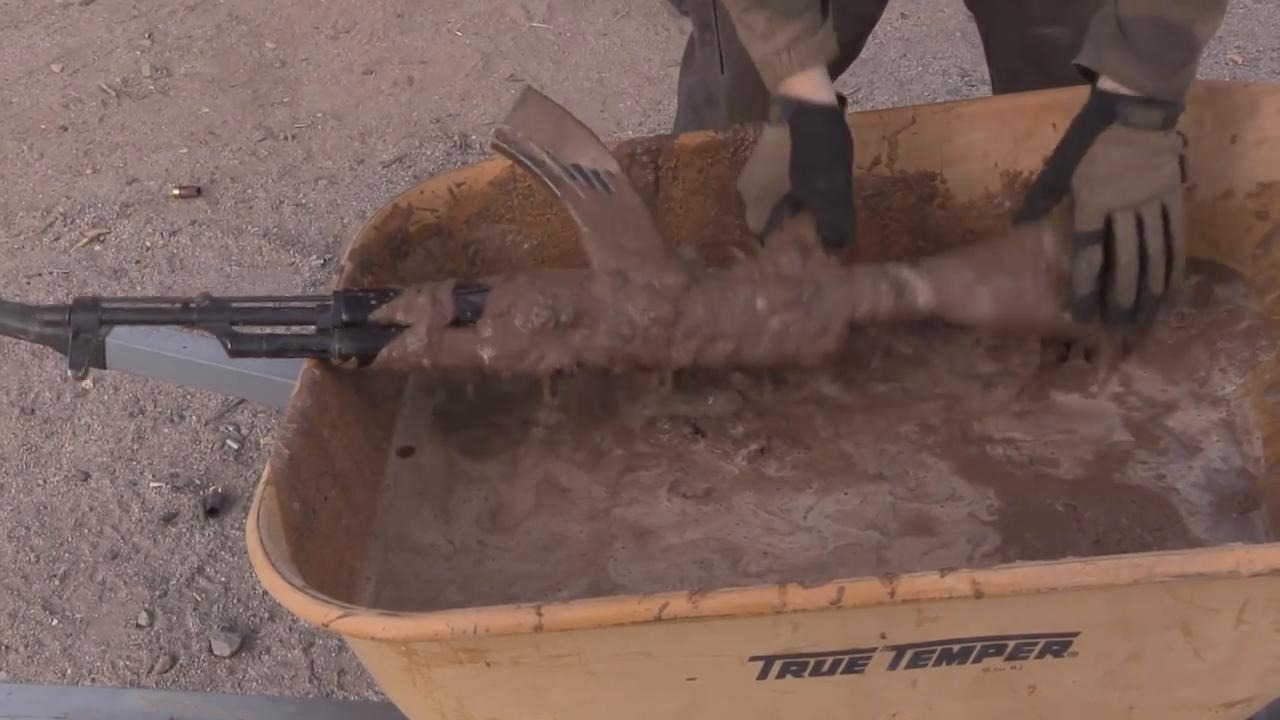AK47 Rifle: (36, 83, 1100, 389)
